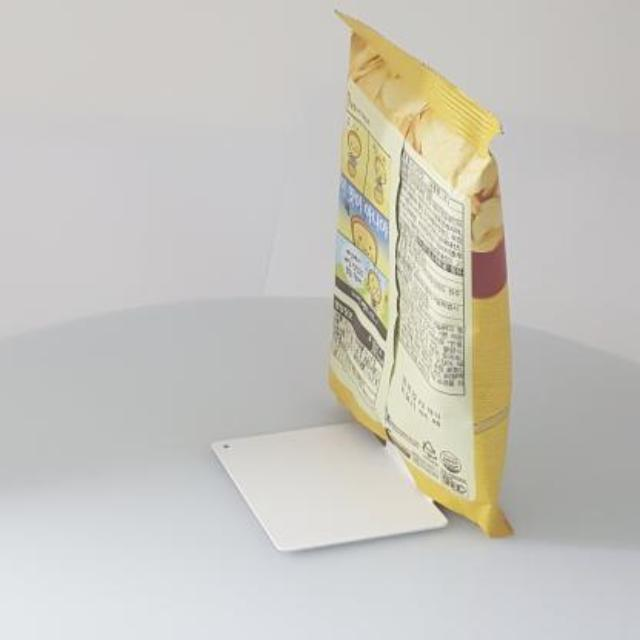snack_bag: (313, 3, 539, 549)
